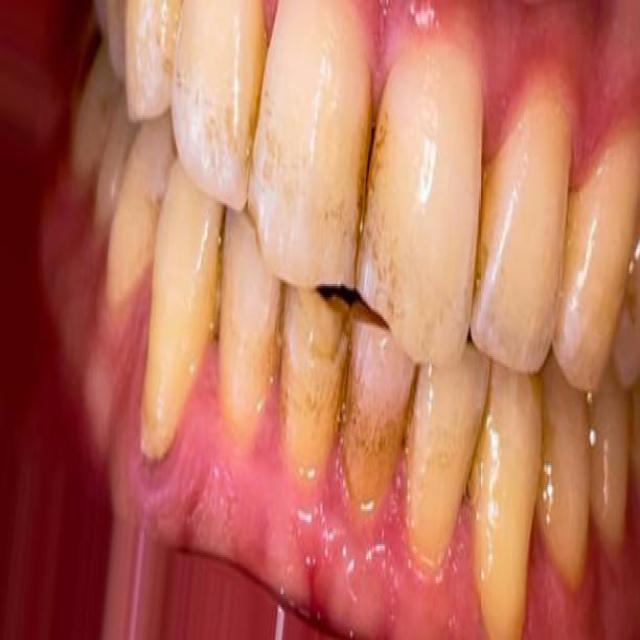calculus: (206, 202, 284, 436), (278, 259, 342, 524), (403, 335, 471, 581), (348, 300, 408, 544)
